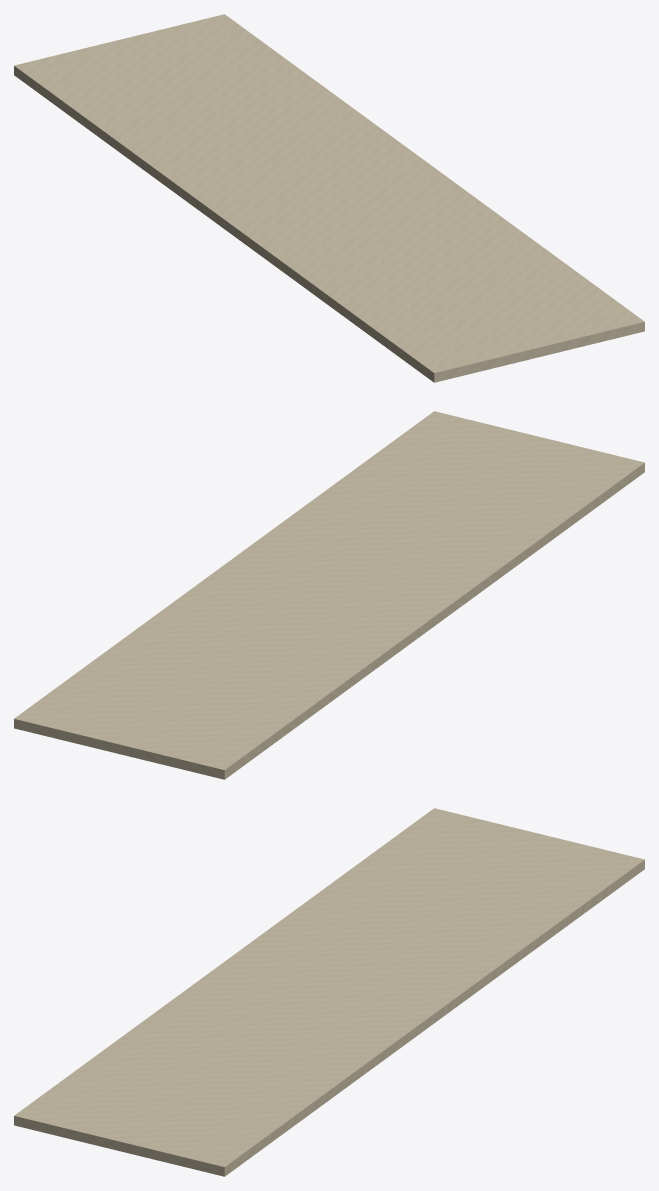
File: SERVICE_D09_PF_inner_04__floor.glb
3 views of the same model, one above another, from view 1: azimuth 30°, elevation 25°; view 2: azimuth 150°, elevation 25°; view 3: azimuth 330°, elevation 25° (orthographic).
Visible parts, largest first — view 1: SERVICE_D09_PF_inner_04__floor__warm_stone; view 2: SERVICE_D09_PF_inner_04__floor__warm_stone; view 3: SERVICE_D09_PF_inner_04__floor__warm_stone.
Boxes of the visible parts, box(x1,y1,x2,y2) form: SERVICE_D09_PF_inner_04__floor__warm_stone: box(14, 14, 644, 382); SERVICE_D09_PF_inner_04__floor__warm_stone: box(14, 411, 644, 779); SERVICE_D09_PF_inner_04__floor__warm_stone: box(14, 808, 644, 1176).
Bounding box in the file's own units: 5.5 × 0.24 × 19.
1 material, 1 textured.
